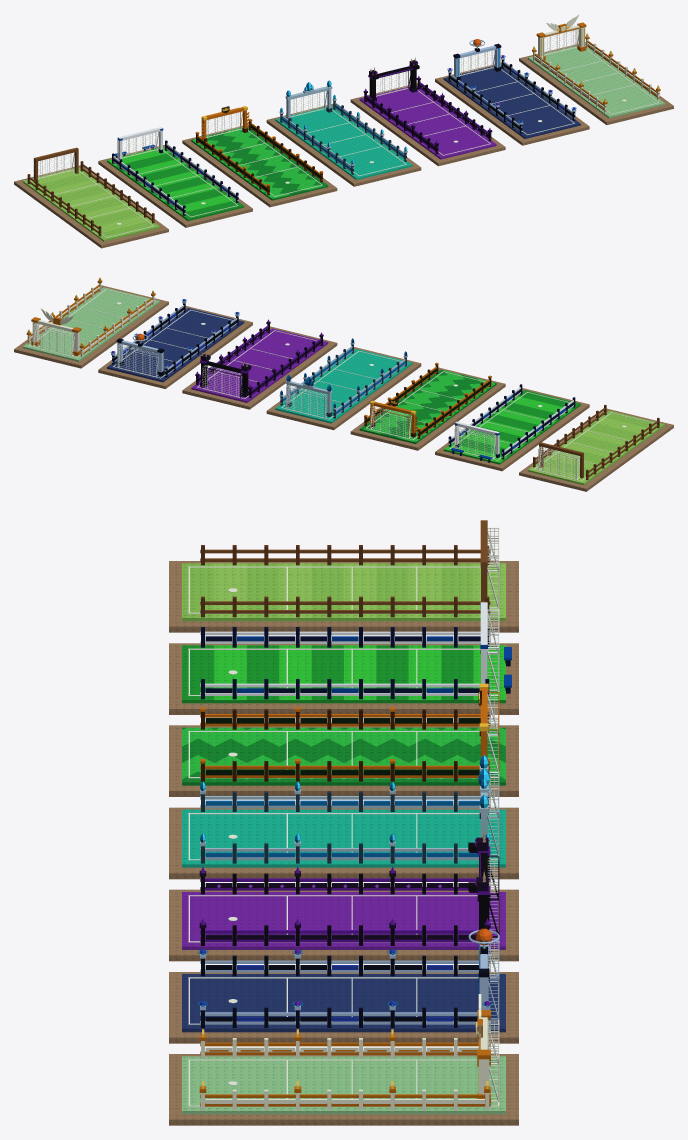
The model's file is training-fields.fbx.
3 renders of one model, top to bottom at view 1: azimuth 30°, elevation 25°; view 2: azimuth 150°, elevation 25°; view 3: azimuth 270°, elevation 25°, orthographic. The views are drawn at different scales.
Visible parts, largest first — view 1: BF_Grass_Stripes, CF_Grass_Stripes, RF_Diamond_Turf, DF_Diamond_Turf, SF_Diamond_Turf, MF_Diamond_Turf, GF_Diamond_Turf, BF_Earth_Base, DF_Earth_Base, RF_Earth_Base, MF_Earth_Base, SF_Earth_Base (+32 smaller); view 2: BF_Grass_Stripes, CF_Grass_Stripes, RF_Diamond_Turf, DF_Diamond_Turf, SF_Diamond_Turf, MF_Diamond_Turf, GF_Diamond_Turf, BF_Earth_Base, RF_Earth_Base, CF_Earth_Base, DF_Earth_Base, GF_Earth_Base (+32 smaller); view 3: BF_Grass_Stripes, CF_Grass_Stripes, DF_Diamond_Turf, SF_Diamond_Turf, MF_Diamond_Turf, RF_Diamond_Turf, GF_Diamond_Turf, GF_Earth_Base, DF_Earth_Base, BF_Earth_Base, RF_Earth_Base, MF_Earth_Base (+30 smaller).
Boxes of the visible parts, left/top/right/bottom form: BF_Grass_Stripes: left=23, top=167, right=159, bottom=239; CF_Grass_Stripes: left=107, top=147, right=243, bottom=219; RF_Diamond_Turf: left=191, top=127, right=327, bottom=198; DF_Diamond_Turf: left=275, top=105, right=411, bottom=178; SF_Diamond_Turf: left=444, top=65, right=580, bottom=137; MF_Diamond_Turf: left=360, top=86, right=496, bottom=157; GF_Diamond_Turf: left=528, top=45, right=664, bottom=116; BF_Earth_Base: left=14, top=165, right=168, bottom=248; DF_Earth_Base: left=266, top=104, right=421, bottom=186; RF_Earth_Base: left=182, top=124, right=337, bottom=207; MF_Earth_Base: left=350, top=83, right=505, bottom=166; SF_Earth_Base: left=435, top=62, right=589, bottom=145; BF_Grass_Stripes: left=528, top=410, right=664, bottom=483; CF_Grass_Stripes: left=444, top=390, right=580, bottom=462; RF_Diamond_Turf: left=360, top=369, right=496, bottom=442; DF_Diamond_Turf: left=276, top=349, right=411, bottom=421; SF_Diamond_Turf: left=107, top=308, right=243, bottom=380; MF_Diamond_Turf: left=191, top=328, right=327, bottom=401; GF_Diamond_Turf: left=23, top=287, right=159, bottom=360; BF_Earth_Base: left=519, top=408, right=673, bottom=491; RF_Earth_Base: left=350, top=367, right=505, bottom=450; CF_Earth_Base: left=435, top=388, right=589, bottom=471; DF_Earth_Base: left=266, top=347, right=421, bottom=430; GF_Earth_Base: left=14, top=285, right=168, bottom=368; BF_Grass_Stripes: left=182, top=563, right=505, bottom=617; CF_Grass_Stripes: left=182, top=645, right=505, bottom=700; DF_Diamond_Turf: left=182, top=809, right=505, bottom=864; SF_Diamond_Turf: left=182, top=974, right=505, bottom=1028; MF_Diamond_Turf: left=182, top=892, right=505, bottom=946; RF_Diamond_Turf: left=182, top=727, right=505, bottom=782; GF_Diamond_Turf: left=182, top=1056, right=505, bottom=1110; GF_Earth_Base: left=169, top=1054, right=518, bottom=1125; DF_Earth_Base: left=169, top=807, right=518, bottom=879; BF_Earth_Base: left=169, top=561, right=518, bottom=632; RF_Earth_Base: left=169, top=725, right=518, bottom=796; MF_Earth_Base: left=169, top=889, right=518, bottom=961.
Bounding box in the file's own units: 8160 × 564 × 2160.
41 materials, 41 textured.
